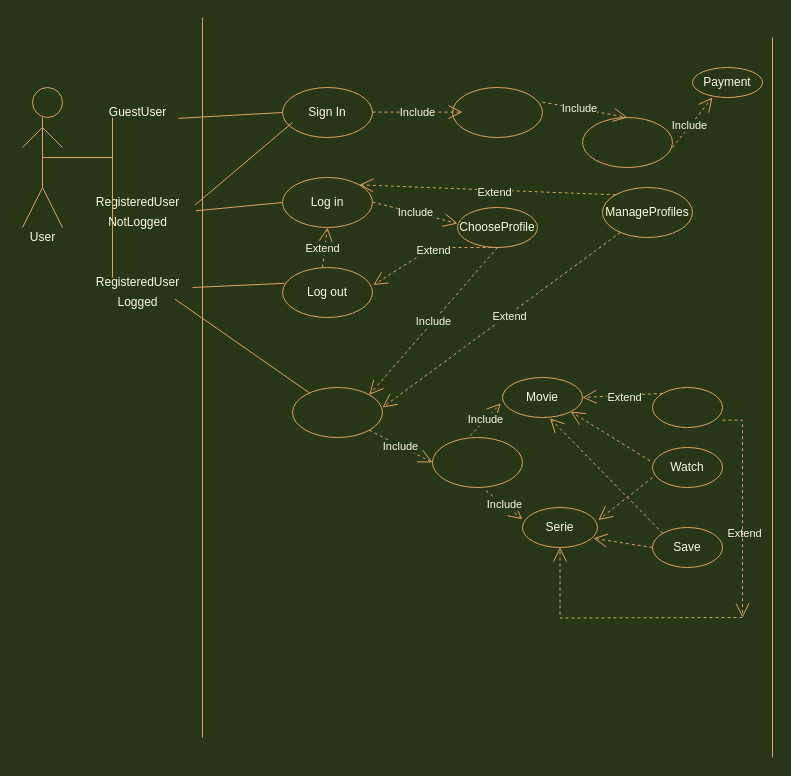
The diagram is 791 pixels wide and 776 high, and some of its shapes have lost their labels. Each missing label, with the centre of its shape:
"Browse Catalogue" belongs at point 337,412.
"FInalizingProfile" belongs at point 627,142.
"Rate" belongs at point 687,407.
"Search" belongs at point 477,462.
"Subscription" belongs at point 497,112.
